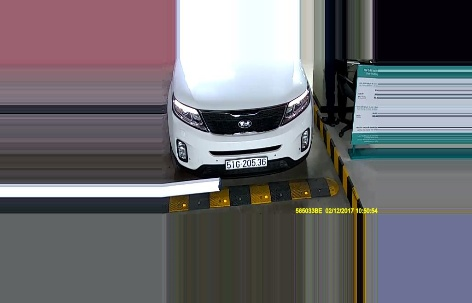plate: (223, 157, 270, 169)
